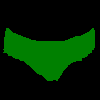mutande: (2, 27, 95, 81)
